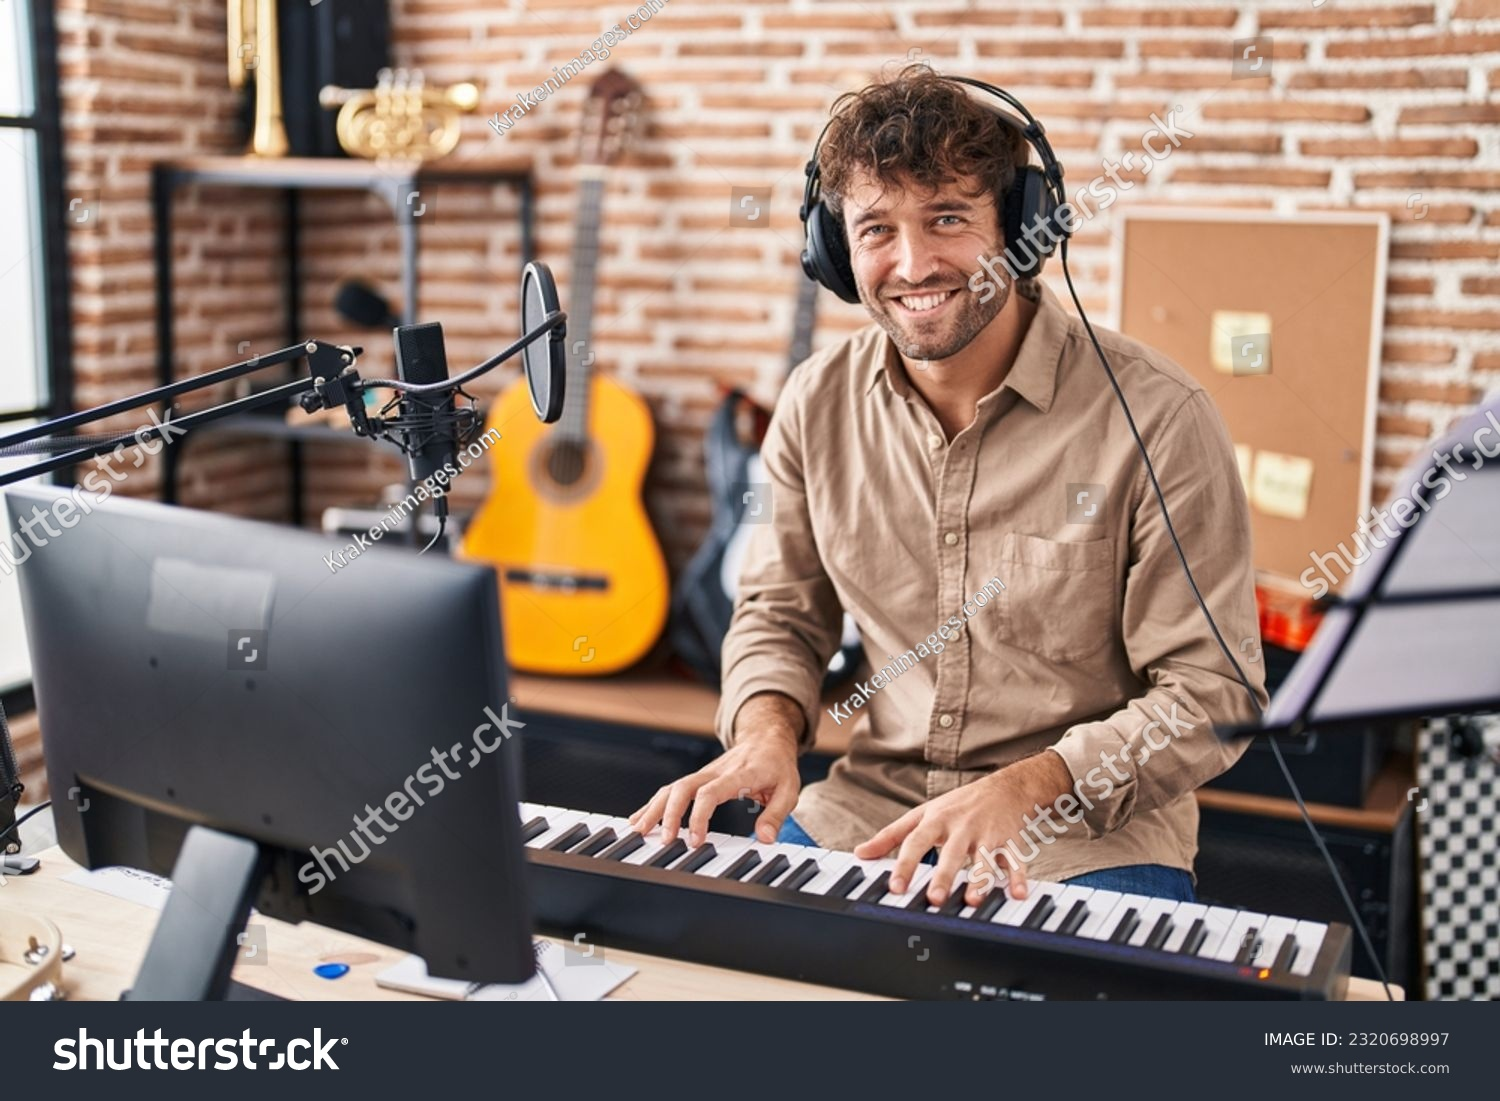Piano: (197, 581, 1393, 1043)
